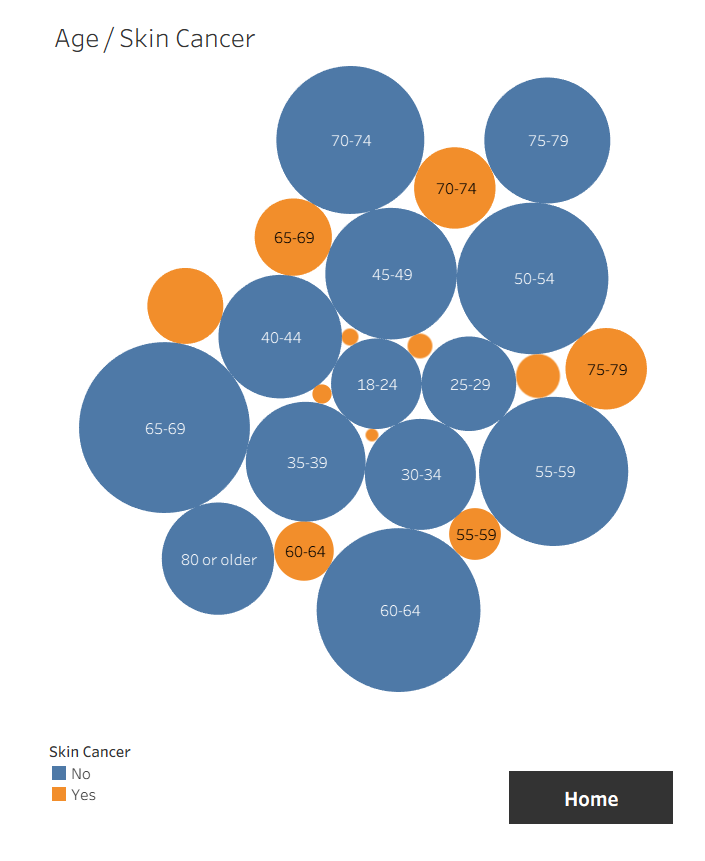

Layout of this report page (visuals, bound fields, positions):
{"tool":"tableau","page":{"name":"Dashboard 4","canvas":[650,860],"ordinal":3},"visuals":[{"type":"worksheet","title":"Sheet 6","mark":"Circle","box":[8,8.5,634,843.1]},{"type":"legend","title":"Sheet 6","param":"[federated.1bot5kw0fr3t3k19gfna11r11o3k].[none:SkinCancer:nk]","box":[11,736.9,140,80.8]},{"type":"dashboard-object","box":[471,767,164,53]}]}

Visuals, with their boxes on the page's 650x860 design canvas (x1, y1, x2, y2). These are canvas units, not pixel positions in the 705x861 screenshot, which may show the page scaled, cropped or inside an application window:
"Sheet 6" worksheet (Circle marks): [8,8,642,852]
"Sheet 6" legend: [11,737,151,818]
dashboard-object: [471,767,635,820]
